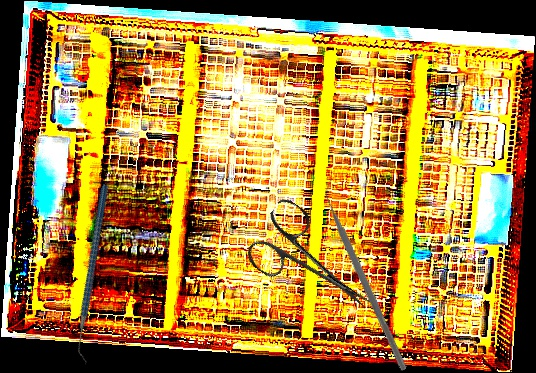Chopper: (263, 175, 473, 373), (24, 183, 165, 366)
Iris Scissors: (239, 195, 391, 334)
